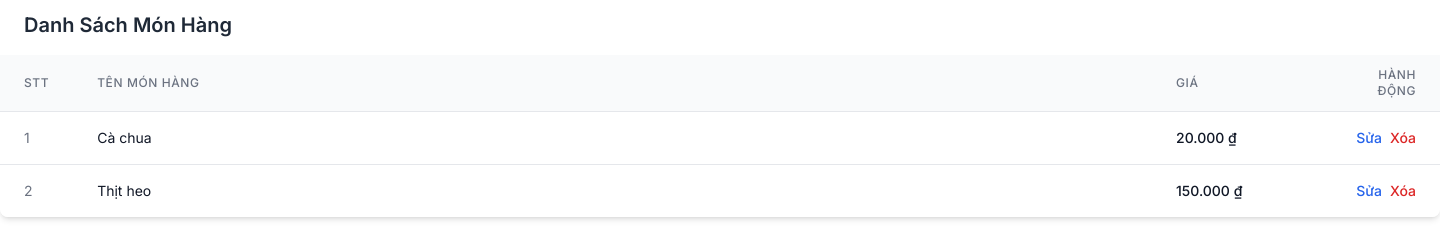
ItemList Component › Delete Functionality › should show confirmation when clicking Xóa button
Click the button "Xóa" in the row of "Cà chua" at {"x": 1403, "y": 138}, box [1390, 128, 1416, 148]
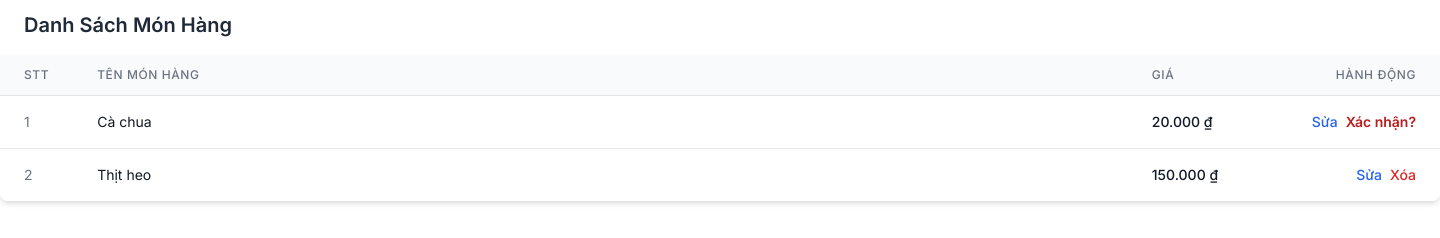
Check: the button "Xác nhận?" is shown, box [1346, 112, 1416, 132]
